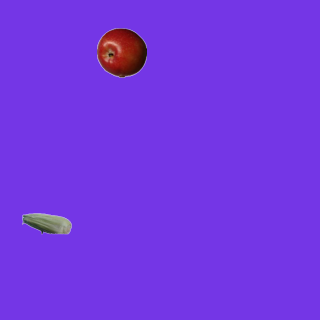Apple Braeburn: (96, 27, 146, 77)
Corn Husk: (21, 198, 71, 248)
